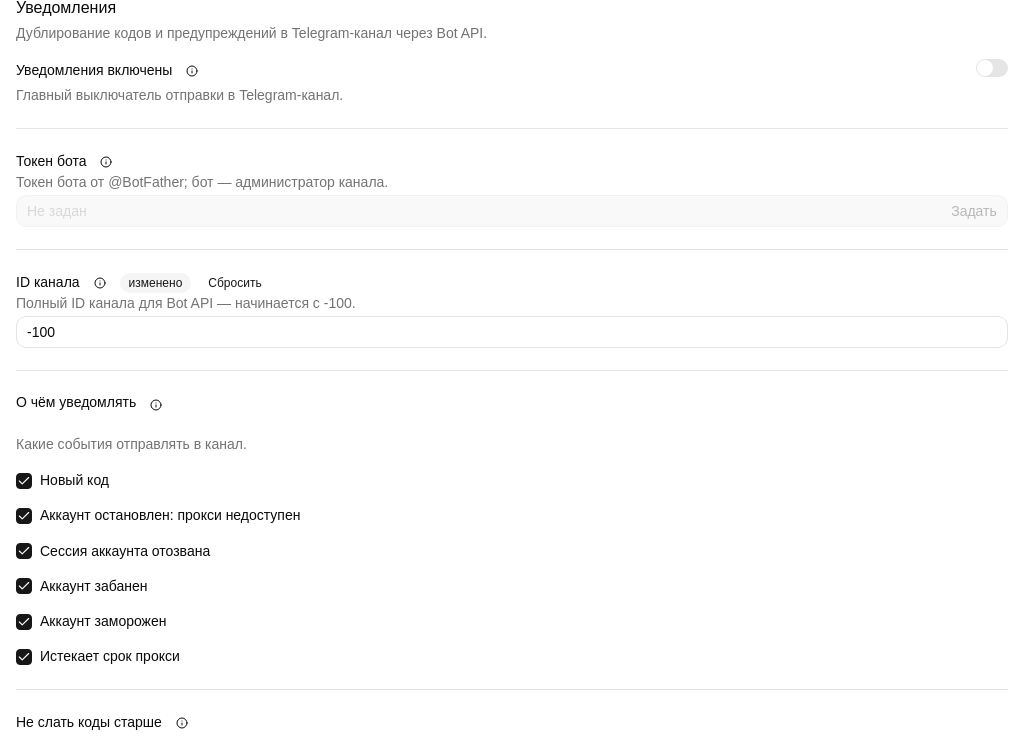
SettingsGroupCard › turns clearing a nullable field into a reset and drops server errors on cancel
Clear the field labelled "ID канала" at (512, 332), box left=16, top=316, right=1008, bottom=348
(page scrolled)
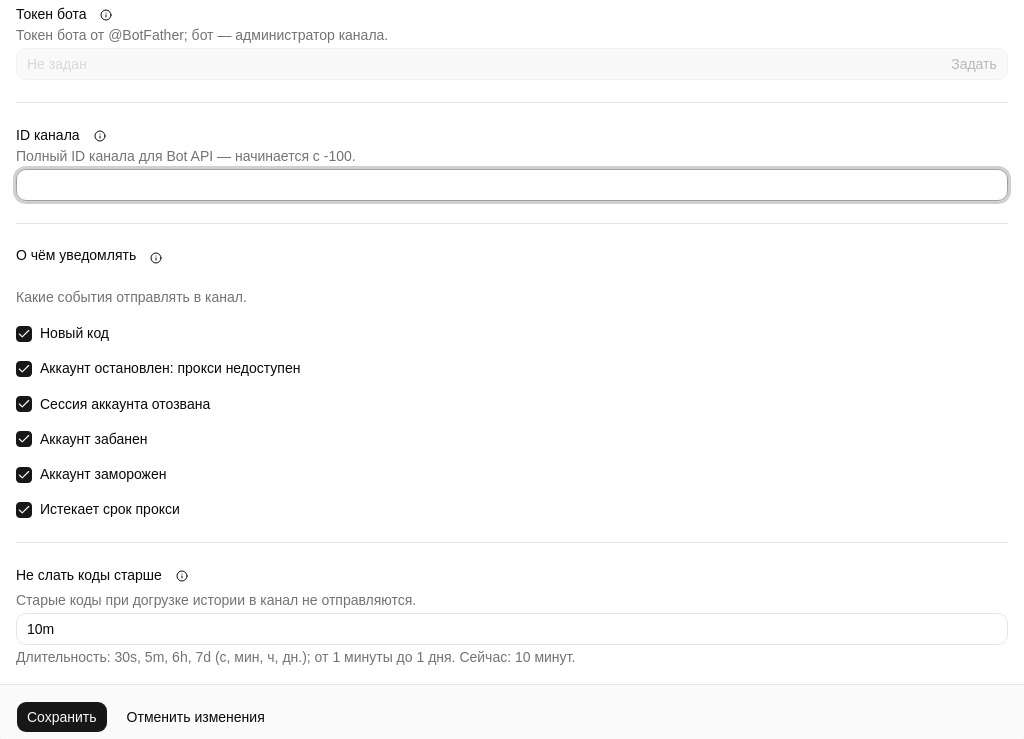
Click the button "Сохранить" at (62, 716), box left=16, top=700, right=108, bottom=732
(page scrolled)
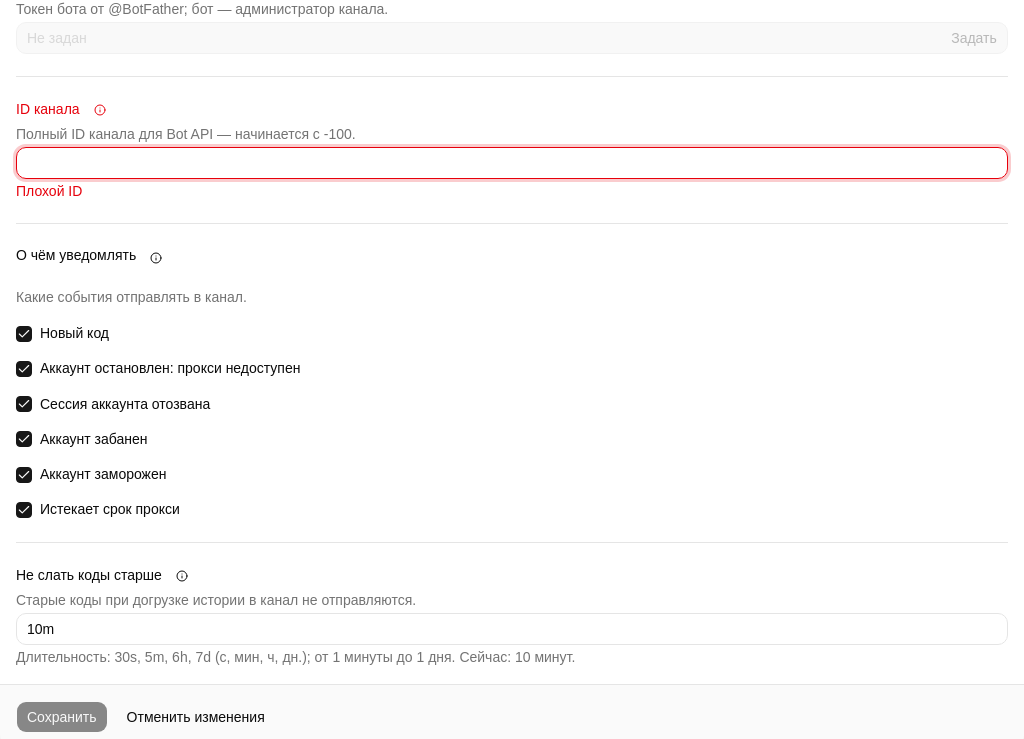
Now the text "Плохой ID" is shown, box left=16, top=183, right=82, bottom=199
Click the button "Отменить изменения" at (196, 716), box left=116, top=700, right=276, bottom=732
(page scrolled)
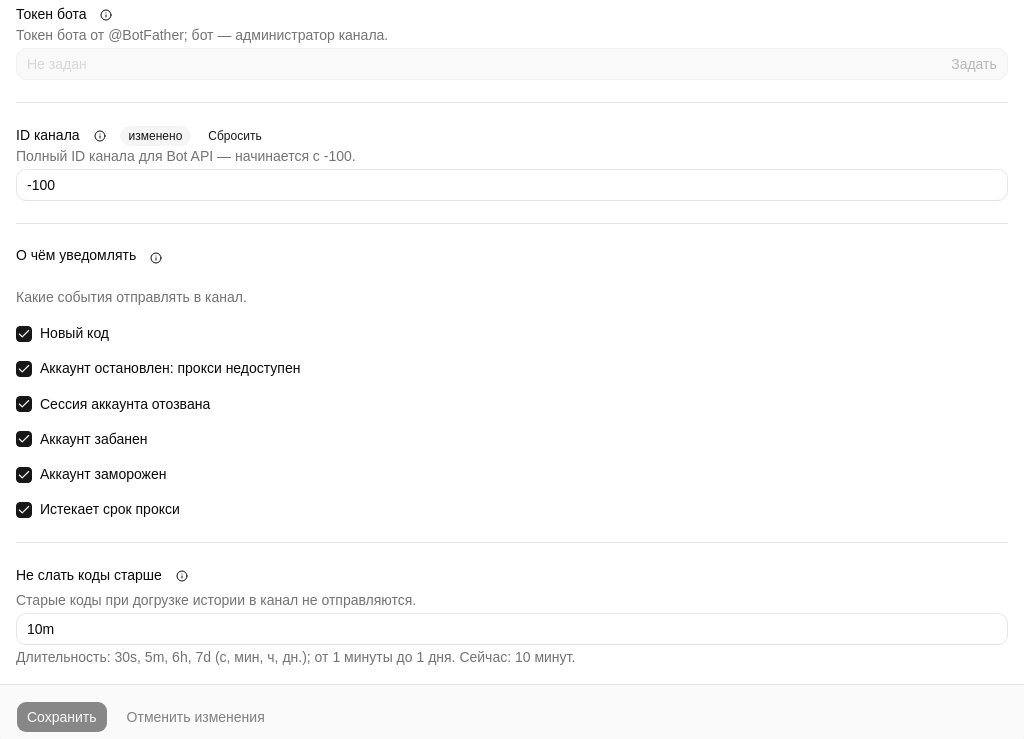
Now the text "Плохой ID" is gone
